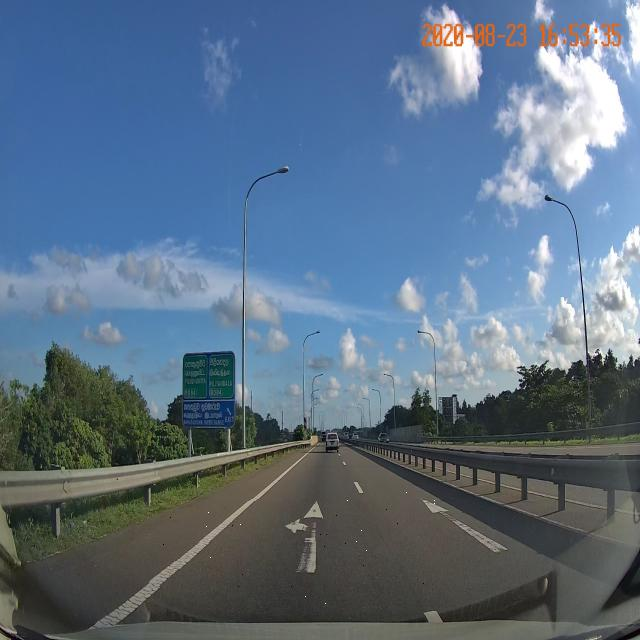forward_lft: (124, 490, 436, 606), (149, 507, 425, 587), (175, 513, 415, 569), (192, 502, 398, 542), (202, 500, 395, 535), (211, 501, 390, 527)
